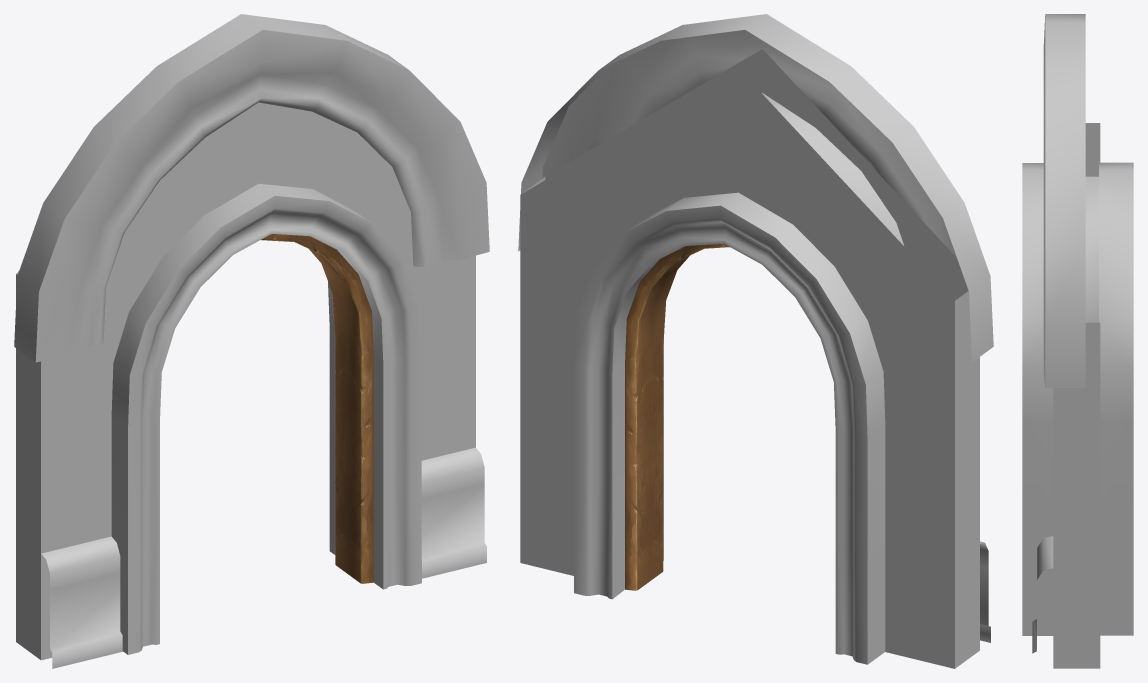
File: Arch_Door_05.FBX
3 views of the same model, side by side, from view 1: azimuth 30°, elevation 25°; view 2: azimuth 150°, elevation 25°; view 3: azimuth 270°, elevation 25° (orthographic). The views are drawn at different scales.
Parts seen in each view (by area): view 1: Arch_Door_05; view 2: Arch_Door_05; view 3: Arch_Door_05.
Boxes of the visible parts, left/top/right/bottom form: Arch_Door_05: left=14, top=14, right=489, bottom=668; Arch_Door_05: left=518, top=14, right=993, bottom=668; Arch_Door_05: left=1022, top=14, right=1133, bottom=668.
Bounding box in the file's own units: 627 × 141 × 766.
